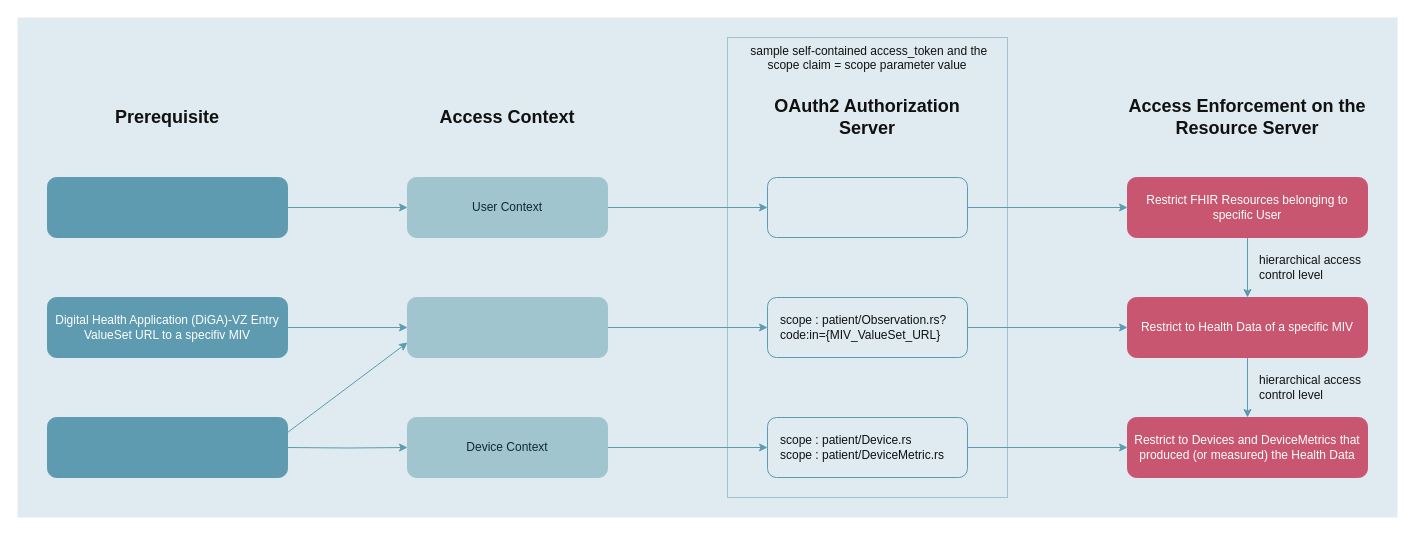
Some shapes in this 1414 by 534 pixel diagram are drawn without their labels. Here are the shapes that lost their labels. From the top down, the centre of each, then its label:
point 167,207: Consent by User (patient)
point 867,207: sub : {Pairing-ID}
point 507,327: Health Data Context
point 167,447: Specification Requirements
